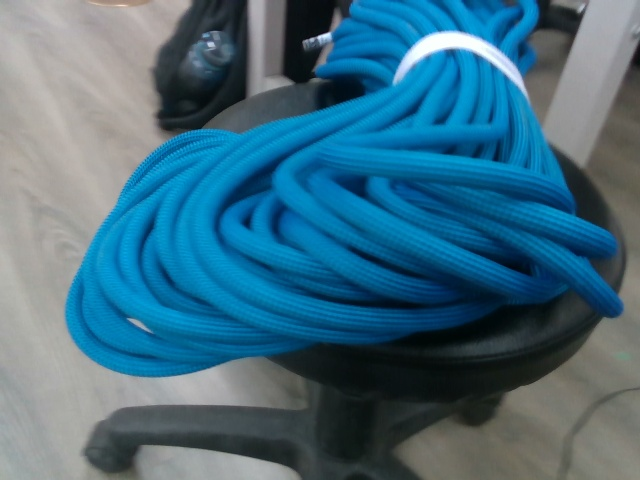rope: (63, 2, 625, 379)
